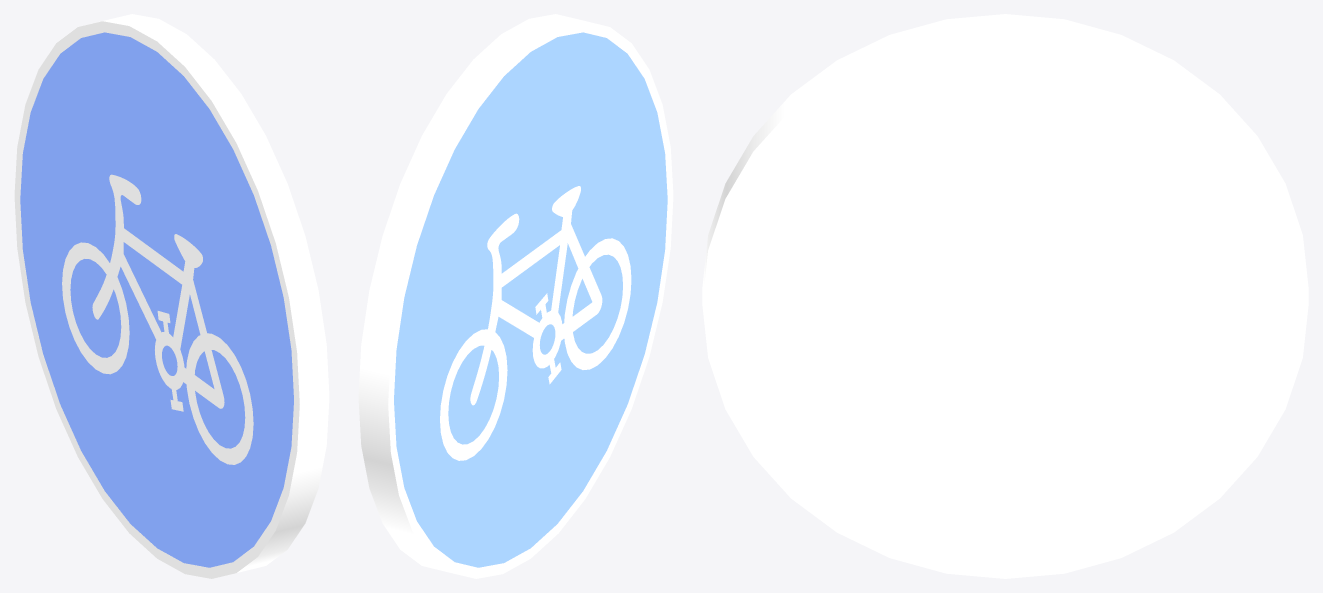
Rendered from Non_MotorVehicle_Driving.glb.
3 renders of one model, left to right at view 1: azimuth 30°, elevation 25°; view 2: azimuth 150°, elevation 25°; view 3: azimuth 270°, elevation 25°, orthographic. The views are drawn at different scales.
Visible parts, largest first — view 1: Non_MotorVehicle_Driving; view 2: Non_MotorVehicle_Driving; view 3: Non_MotorVehicle_Driving.
Part boxes in pixels (x1,y1,x2,y2): Non_MotorVehicle_Driving: [14, 14, 329, 578]; Non_MotorVehicle_Driving: [358, 14, 673, 578]; Non_MotorVehicle_Driving: [702, 14, 1308, 578].
Bounding box in the file's own units: 0.0643 × 1 × 1.
